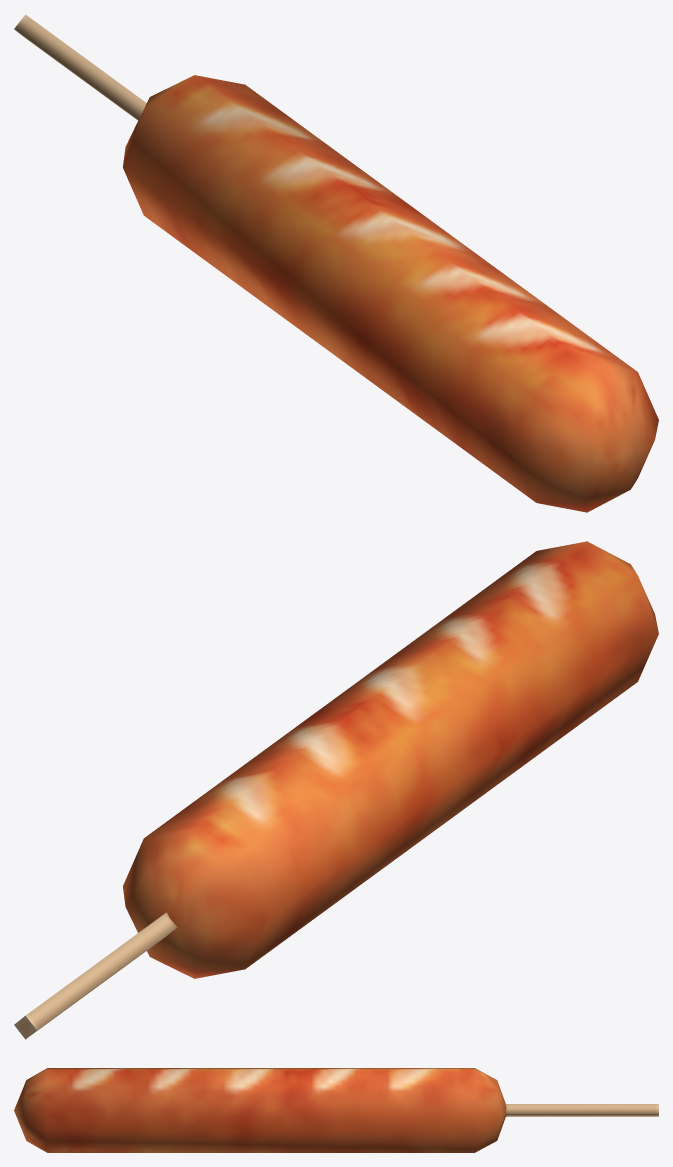
File: jsf_Frankfurt_a02.fbx
The picture shows the model from 3 angles, top to bottom: view 1: azimuth 30°, elevation 25°; view 2: azimuth 150°, elevation 25°; view 3: azimuth 270°, elevation 25°; orthographic projection. The views are drawn at different scales.
Visible parts, largest first — view 1: jsf_Frankfurt_a02; view 2: jsf_Frankfurt_a02; view 3: jsf_Frankfurt_a02.
Part boxes in pixels (x1=…): jsf_Frankfurt_a02: x1=14, y1=14, x2=658, y2=512; jsf_Frankfurt_a02: x1=14, y1=541, x2=658, y2=1039; jsf_Frankfurt_a02: x1=14, y1=1068, x2=658, y2=1152.
Bounding box in the file's own units: 2.92 × 2.92 × 20.9.
